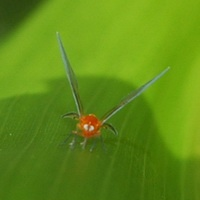insect: (56, 32, 169, 147)
